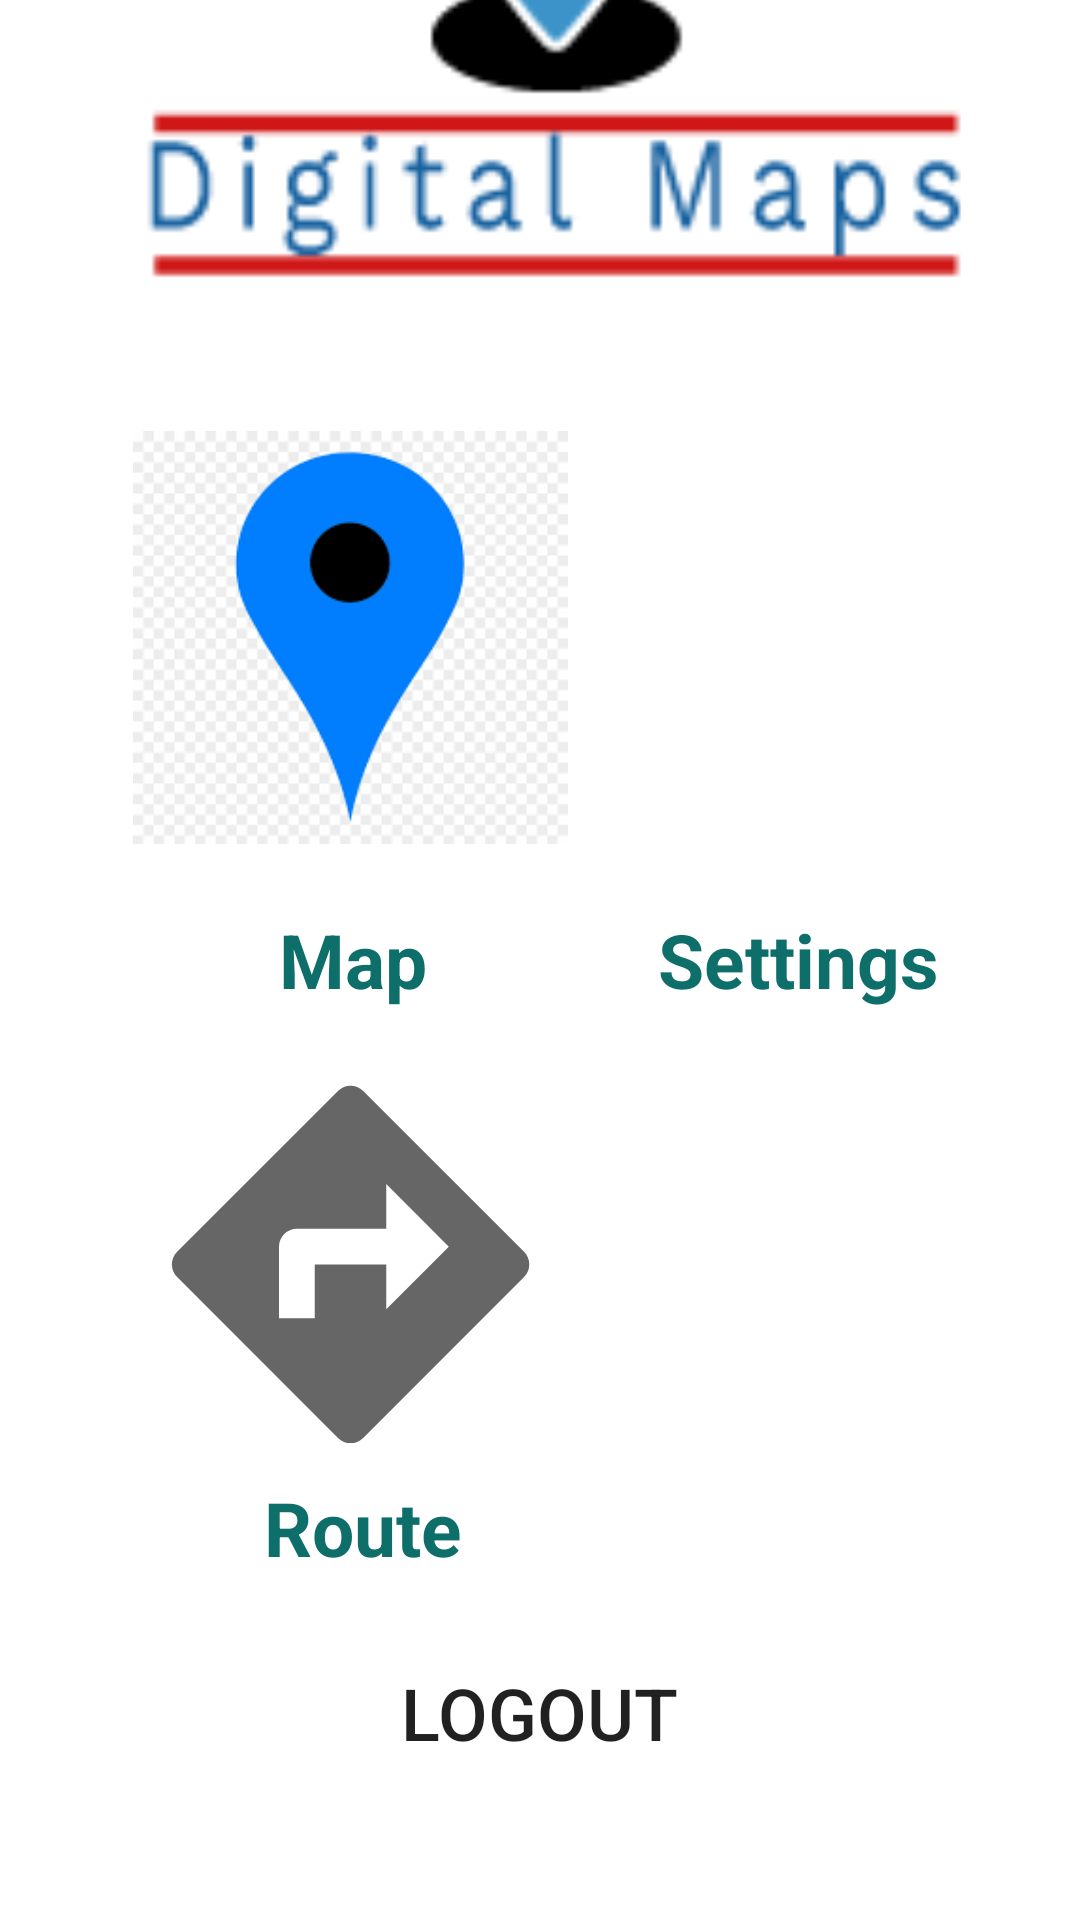

Screen size 1080*1920. Icon name, then its center in pixels as [x,y]:
directions: [351,1264]
